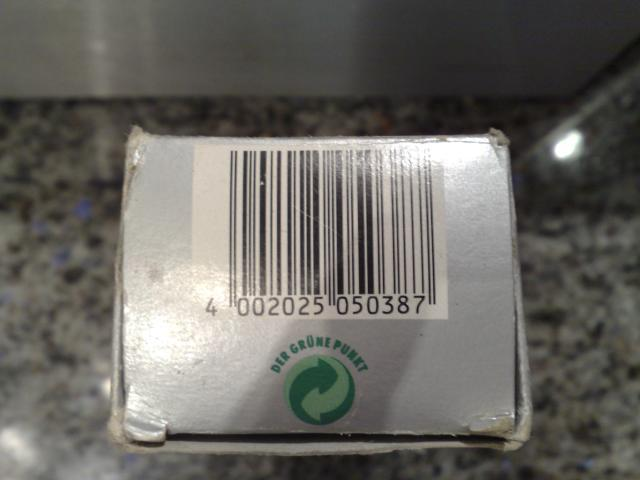Barkod: (226, 147, 437, 296)
